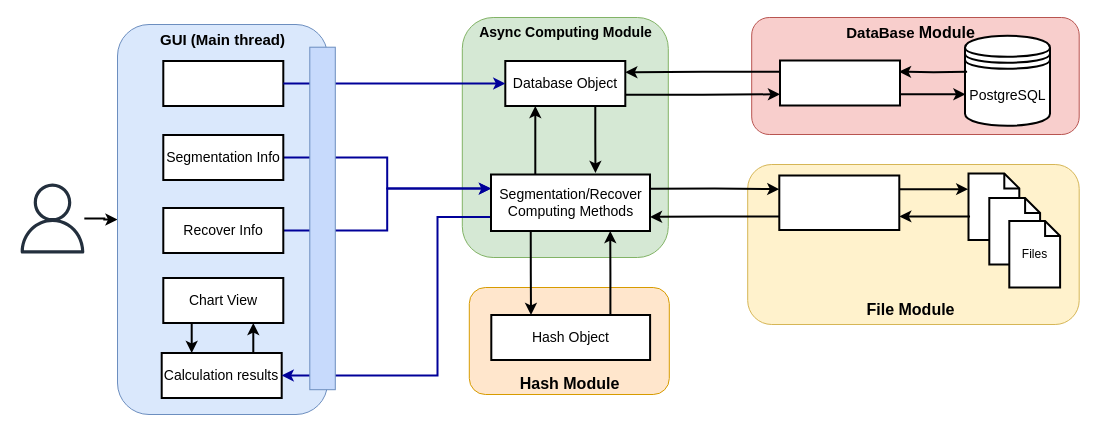
The diagram is 1097 pixels wide and 432 high, and some of its shapes have lost their labels. Each missing label, with the centre of its shape:
"Database Driver" goes at (x=839, y=82).
"Database Info" goes at (x=223, y=83).
"File Object" goes at (x=839, y=202).
"SIGNAL AND SLOT" goes at (x=322, y=218).
